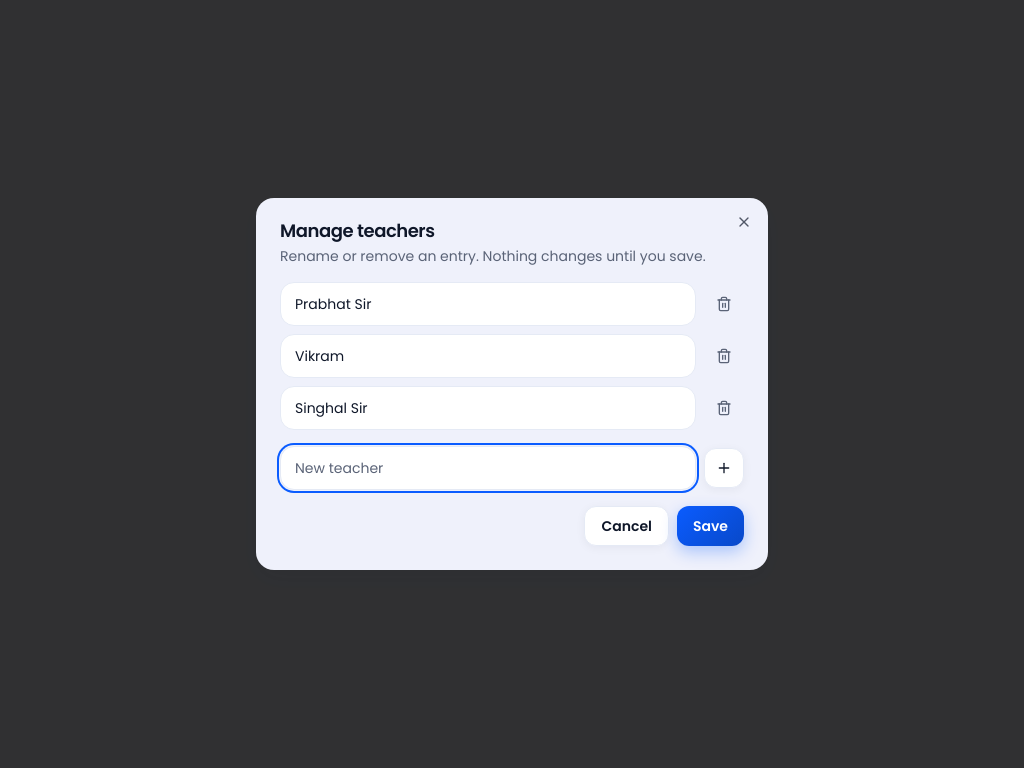
ManageListDialog › refuses the same name twice, whatever the case
This screenshot has width=1024, height=768.
Replace the text in the field named "Teachers 3" with "vikram": [488, 408] box [280,386,696,430]
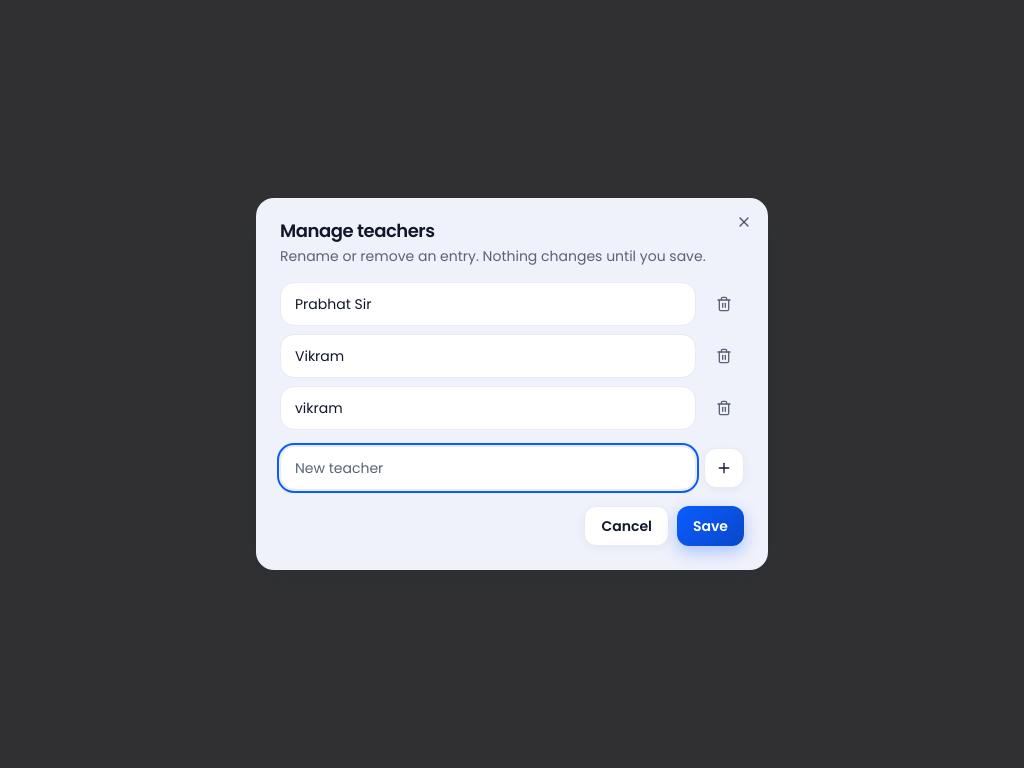
Click the button "Save": [710, 526] box [677,506,744,546]
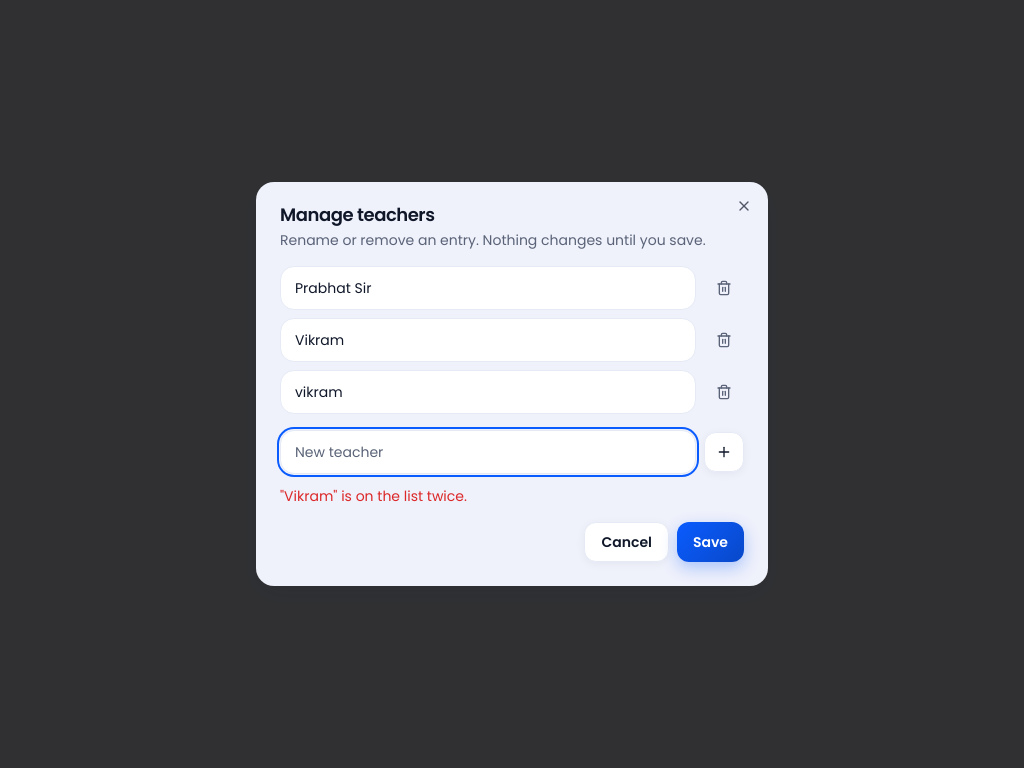
expect the text "\"Vikram\" is on the list twice." is shown: met, box [280,486,467,506]
